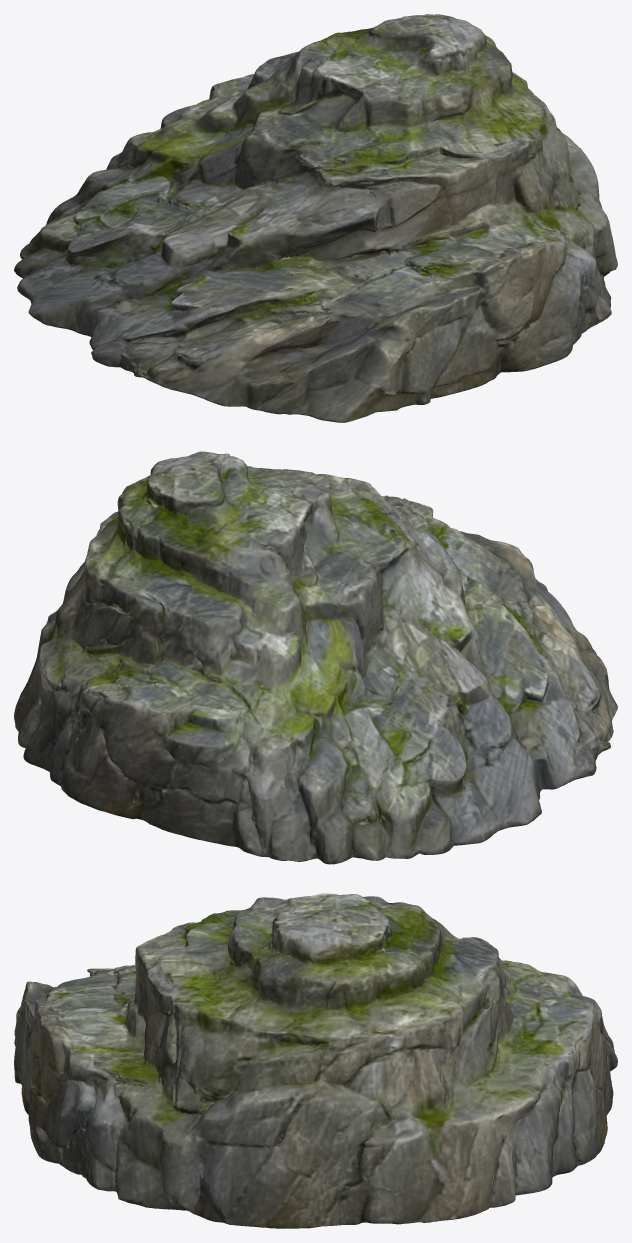
File: rocky-hill.glb
3 views of the same model, one above another, from view 1: azimuth 30°, elevation 25°; view 2: azimuth 150°, elevation 25°; view 3: azimuth 270°, elevation 25° (orthographic). The views are drawn at different scales.
Visible parts, largest first — view 1: geometry_0; view 2: geometry_0; view 3: geometry_0.
Boxes of the visible parts, x1,y1,x2,y2 form: geometry_0: (14,14,617,422); geometry_0: (14,451,617,864); geometry_0: (14,893,617,1228).
Size of the model in its own units: 8 by 3.57 by 8.01.
1 material, 1 textured.
